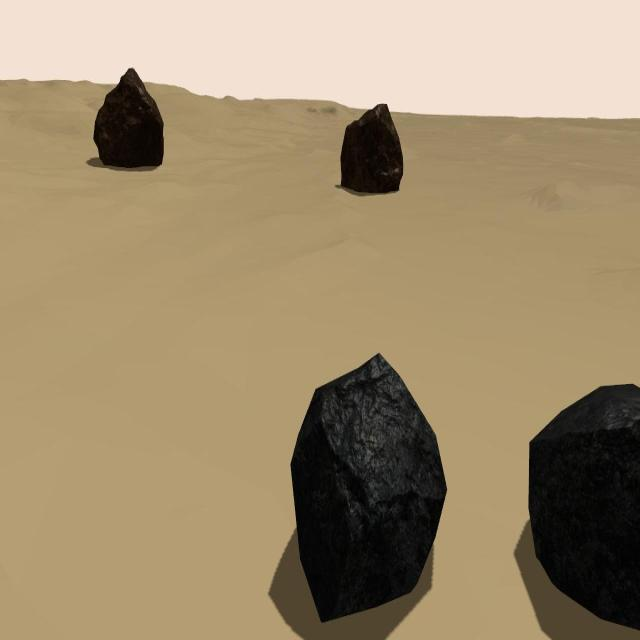rock: (290, 353, 447, 622), (528, 384, 640, 630), (93, 68, 164, 168), (340, 102, 403, 191)
